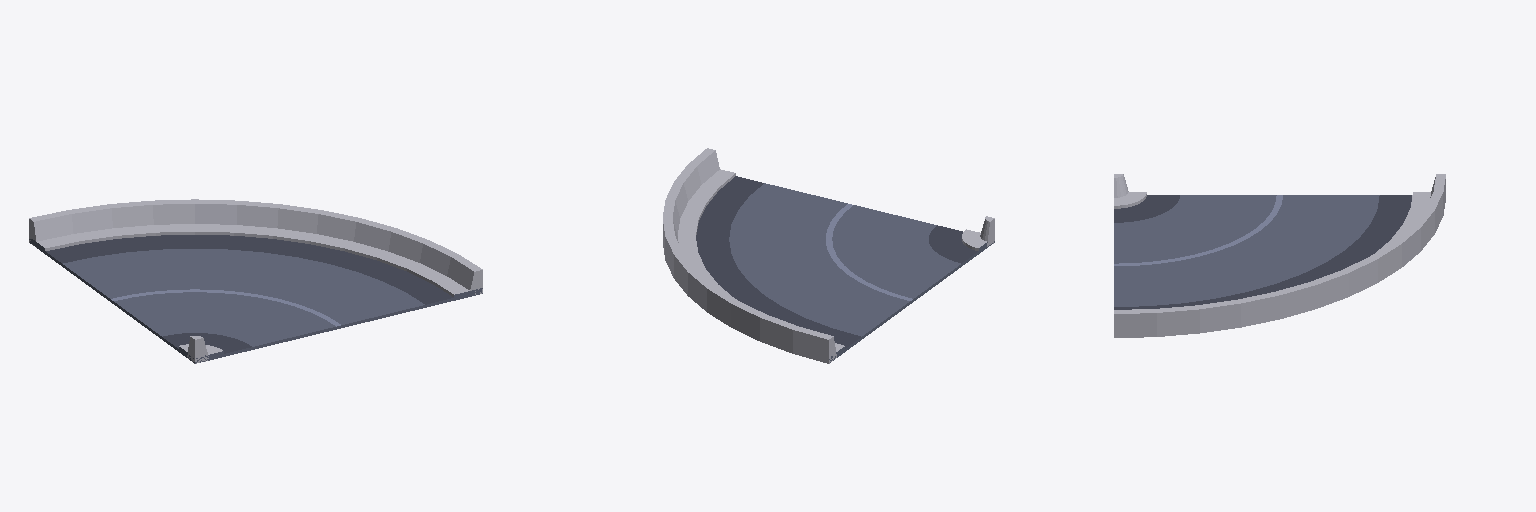
File: city_road_corner_raised.obj
3 views of the same model, side by side, from view 1: azimuth 30°, elevation 25°; view 2: azimuth 150°, elevation 25°; view 3: azimuth 270°, elevation 25° (orthographic).
Visible parts, largest first — view 1: city_road_corner; view 2: city_road_corner; view 3: city_road_corner.
Part boxes in pixels (bbox=[...]): city_road_corner: bbox=[29, 199, 482, 363]; city_road_corner: bbox=[663, 148, 994, 363]; city_road_corner: bbox=[1114, 174, 1445, 337].
Size of the model in its own units: 1 by 0.08 by 1.